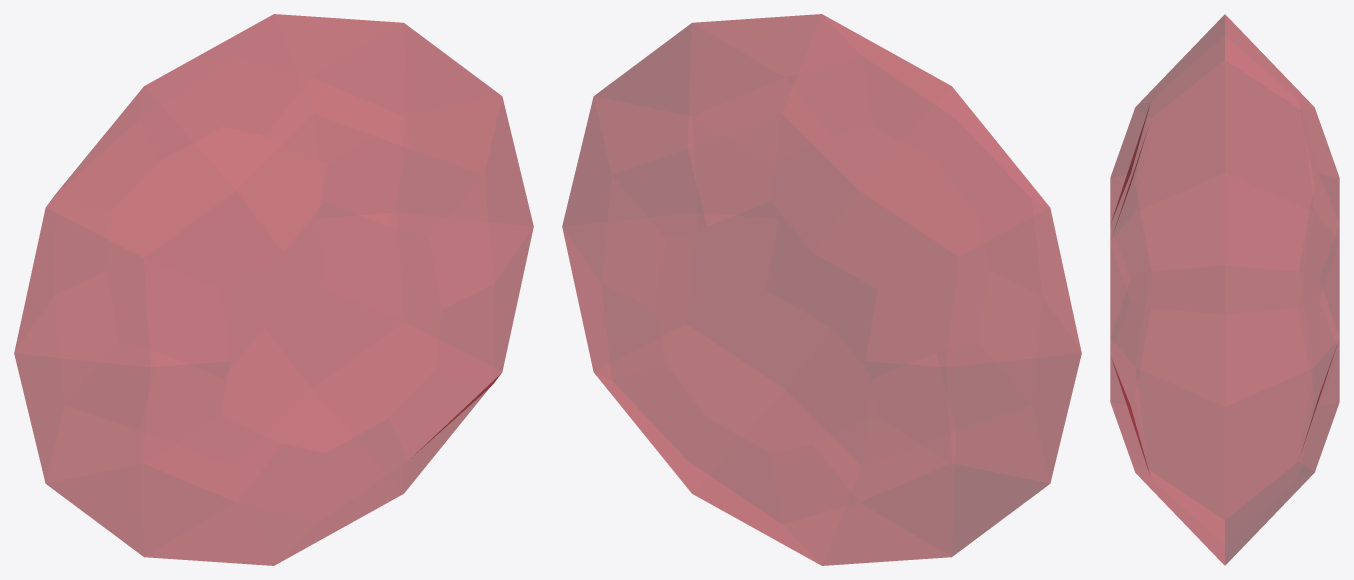
Rendered from ruby.glb.
3 renders of one model, left to right at view 1: azimuth 30°, elevation 25°; view 2: azimuth 150°, elevation 25°; view 3: azimuth 270°, elevation 25°, orthographic. The views are drawn at different scales.
Parts seen in each view (by area): view 1: Cylinder; view 2: Cylinder; view 3: Cylinder.
Part boxes in pixels (left/top/right/bottom): Cylinder: left=14, top=14, right=533, bottom=565; Cylinder: left=562, top=14, right=1081, bottom=565; Cylinder: left=1110, top=14, right=1339, bottom=565.
Bounding box in the file's own units: 0.3529 × 0.3581 × 0.1462.
